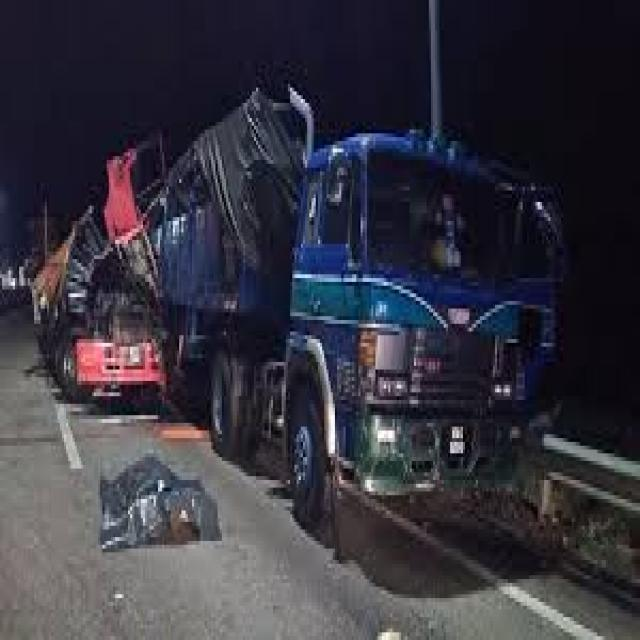accident: (26, 72, 571, 550)
